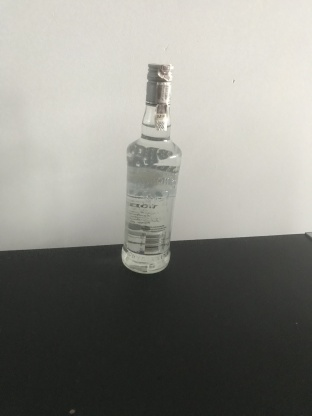nakretka: (144, 61, 175, 106)
